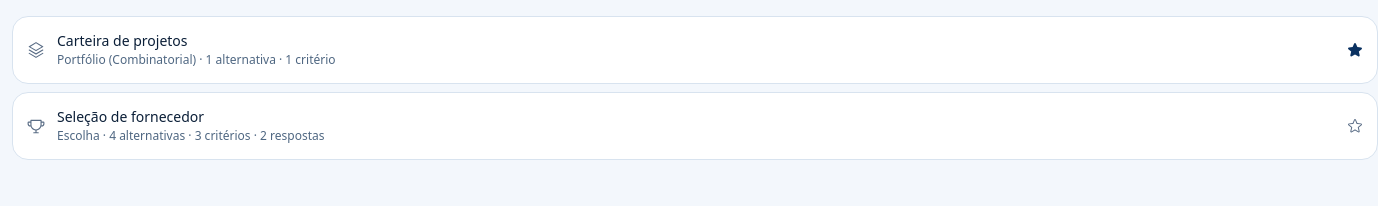
Test: DecisoesSalvas: favoritas › desfaz a marcação quando o servidor recusa, em vez de mentir
Click the button named "Favorita: Seleção de fornecedor": coordinates (1355, 126) 1341,112 -> 1369,140
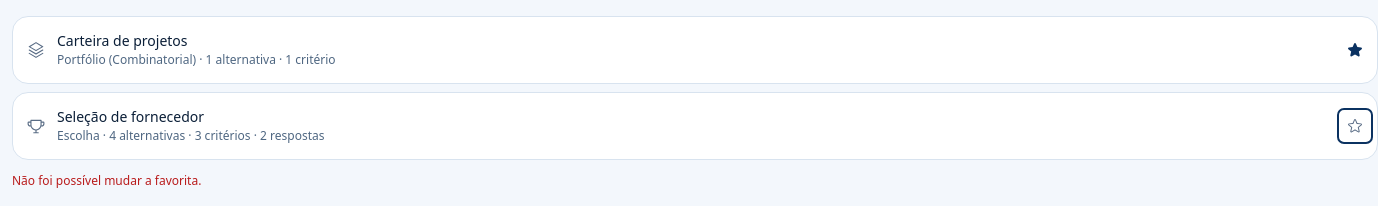
Result: the text "Não foi possível mudar a favorita." is shown at 12,172 -> 201,189
